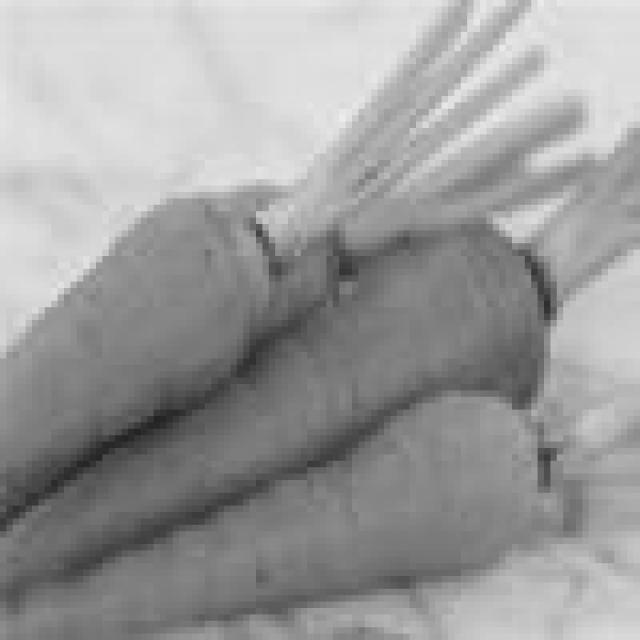Fresh_Carrot: (0, 345, 576, 640), (0, 149, 292, 446)
